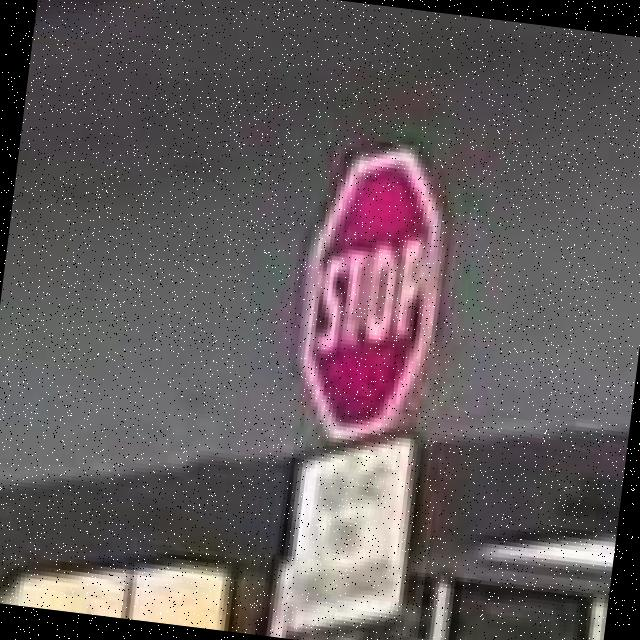Stop: (282, 138, 464, 437)
